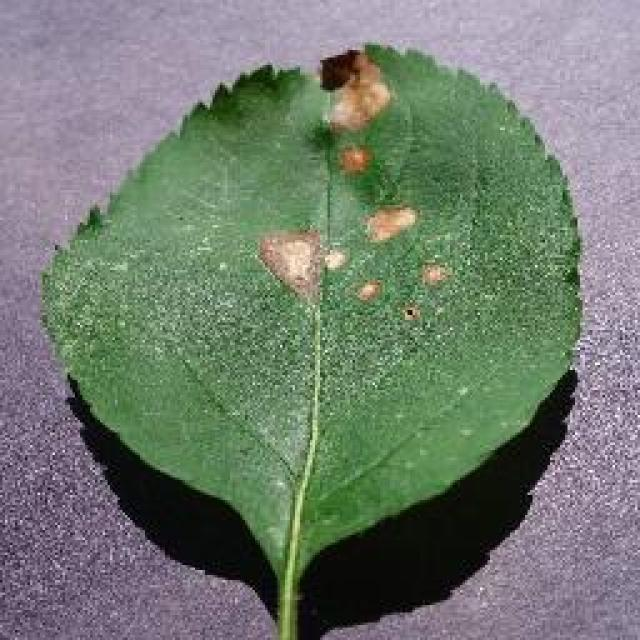Black_rot: (38, 40, 582, 638)
